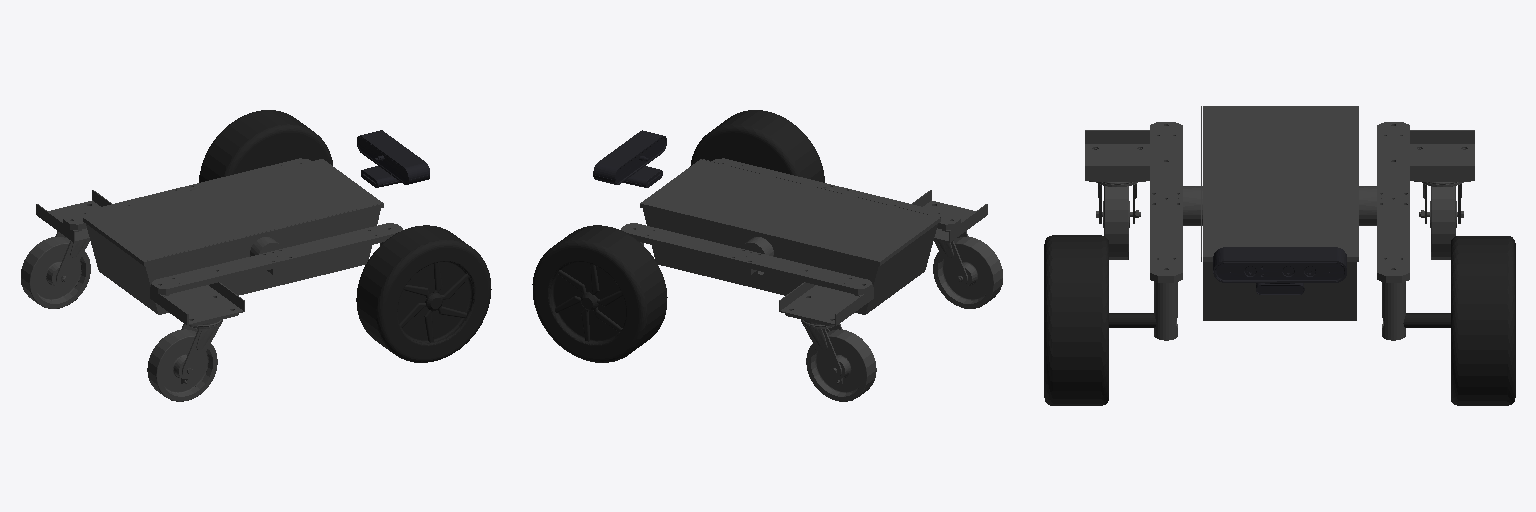
URDF robot description (base_rover_cart):
<?xml version="1.0" encoding="utf-8"?>
<!-- =================================================================================== -->
<!-- |    This document was autogenerated by xacro from test.urdf.xacro                | -->
<!-- |    EDITING THIS FILE BY HAND IS NOT RECOMMENDED                                 | -->
<!-- =================================================================================== -->
<robot name="base_rover_cart">
  <!--URDF uses SI Units: meters, radians and kilograms-->
  <!-- Init colour -->
  <material name="black">
    <color rgba="0.0 0.0 0.0 1.0"/>
  </material>
  <material name="dark">
    <color rgba="0.3 0.3 0.3 1.0"/>
  </material>
  <material name="light_black">
    <color rgba="0.4 0.4 0.4 1.0"/>
  </material>
  <material name="blue">
    <color rgba="0.0 0.0 0.8 1.0"/>
  </material>
  <material name="green">
    <color rgba="0.0 0.8 0.0 1.0"/>
  </material>
  <material name="grey">
    <color rgba="0.5 0.5 0.5 1.0"/>
  </material>
  <material name="orange">
    <color rgba="1.0 0.423529411765 0.0392156862745 1.0"/>
  </material>
  <material name="brown">
    <color rgba="0.870588235294 0.811764705882 0.764705882353 1.0"/>
  </material>
  <material name="silver">
    <color rgba="0.752941176471 0.752941176471 0.752941176471 1.0"/>
  </material>
  <material name="red">
    <color rgba="0.8 0.0 0.0 1.0"/>
  </material>
  <material name="white">
    <color rgba="1.0 1.0 1.0 1.0"/>
  </material>
  <joint name="astra_joint" type="fixed">
    <origin rpy="0 0 0" xyz="0.09 0 0.11"/>
    <parent link="base_link"/>
    <child link="camera_link"/>
  </joint>
  <link name="camera_link">
    <visual>
      <origin rpy="1.57079632679 0 1.57079632679" xyz="0 0 0"/>
      <geometry>
        <mesh filename="package://rover_description/meshes/astra.dae" scale="0.001 0.001 0.001"/>
      </geometry>
    </visual>
    <!-- might be a bit small... -->
    <inertial>
      <mass value="1e-5"/>
      <origin rpy="0 0 0" xyz="0 0 0"/>
      <inertia ixx="0" ixy="0" ixz="0" iyy="0" iyz="0" izz="0"/>
    </inertial>
    <collision>
      <origin rpy="0 0 0" xyz="0 0 0"/>
      <geometry>
        0
        
        <box size="0.08 0.18 0.06"/>
      </geometry>
    </collision>
  </link>
  <joint name="camera_optical_joint" type="fixed">
    <origin rpy="-1.57079632679 0 -1.57079632679" xyz="0 0 0"/>
    <parent link="camera_link"/>
    <child link="camera_rgb_frame"/>
  </joint>
  <link name="camera_rgb_frame">
  </link>
  <joint name="camera_depth_joint" type="fixed">
    <origin rpy="-1.57079632679 0 -1.57079632679" xyz="0 0 0"/>
    <parent link="camera_link"/>
    <child link="camera_depth_frame"/>
  </joint>
  <link name="camera_depth_frame">
  </link>
  <gazebo reference="camera_link">
    <sensor name="openni_camera_camera" type="depth">
      <always_on>1</always_on>
      <visualize>true</visualize>
      <camera>
        <horizontal_fov>1.047</horizontal_fov>
        <image>
          <width>640</width>
          <height>480</height>
          <format>R8G8B8</format>
        </image>
        <depth_camera>

        </depth_camera>
        <clip>
          <near>0.1</near>
          <far>100</far>
        </clip>
      </camera>
      <plugin filename="libgazebo_ros_openni_kinect.so" name="kinect_controller">
        <alwaysOn>true</alwaysOn>
        <updateRate>10.0</updateRate>
        <cameraName>camera</cameraName>
        <frameName>camera_depth_frame</frameName>
        <imageTopicName>rgb/image_raw</imageTopicName>
        <depthImageTopicName>depth/image_raw</depthImageTopicName>
        <pointCloudTopicName>depth/points</pointCloudTopicName>
        <cameraInfoTopicName>rgb/camera_info</cameraInfoTopicName>
        <depthImageCameraInfoTopicName>depth/camera_info</depthImageCameraInfoTopicName>
        <pointCloudCutoff>0.4</pointCloudCutoff>
        <hackBaseline>0.07</hackBaseline>
        <distortionK1>0.0</distortionK1>
        <distortionK2>0.0</distortionK2>
        <distortionK3>0.0</distortionK3>
        <distortionT1>0.0</distortionT1>
        <distortionT2>0.0</distortionT2>
        <CxPrime>0.0</CxPrime>
        <Cx>0.0</Cx>
        <Cy>0.0</Cy>
        <focalLength>0.0</focalLength>
      </plugin>
    </sensor>
    <!-- <material>Gazebo/Grey</material> -->
  </gazebo>
  <link name="imu_link"/>
  <joint name="imu_joint" type="fixed">
    <parent link="base_link"/>
    <child link="imu_link"/>
    <origin rpy="0 0 0" xyz="0.0 0 0.068"/>
  </joint>
  <!-- Gazebo sensor plugin -->
  <gazebo>
    <plugin filename="libgazebo_ros_imu.so" name="imu_plugin">
      <always_on> true </always_on>
      <bodyName> imu_link </bodyName>
      <frameName> imu_link </frameName>
      <topicName> imu </topicName>
      <serviceName> imu_service </serviceName>
      <gaussianNoise> 0.0 </gaussianNoise>
      <updateRate> 200 </updateRate>
      <imu>
        <noise>
          <type> gaussian </type>
          <rate>
            <mean> 0.0 </mean>
            <stddev> 2e-4 </stddev>
            <bias_mean> 0.0000075 </bias_mean>
            <bias_stddev> 0.0000008 </bias_stddev>
          </rate>
          <accel>
            <mean> 0.0 </mean>
            <stddev> 1.7e-2 </stddev>
            <bias_mean> 0.1 </bias_mean>
            <bias_stddev> 0.001 </bias_stddev>
          </accel>
        </noise>
      </imu>
    </plugin>
  </gazebo>
  <joint name="rplidar_joint" type="fixed">
    <origin rpy="0 0 3.14" xyz="-0.11 0 0.25"/>
    <parent link="base_link"/>
    <child link="laser"/>
  </joint>
  <link name="laser">
    <visual>
      <origin rpy="0 0 0" xyz="0 0 -0.15"/>
      <geometry>
        <mesh filename="package://rover_description/meshes/lidar.dae" scale="0.001 0.001 0.001"/>
      </geometry>
    </visual>
    <collision>
      <origin rpy="0 0 0" xyz="0 0 -0.1"/>
      <geometry>
        <box size="0.08 0.08 0.08"/>
      </geometry>
    </collision>
    <inertial>
      <mass value="1e-5"/>
      <origin rpy="1.5707 0 4.71" xyz="0 0 0.058"/>
      <inertia ixx="0" ixy="0" ixz="0" iyy="0" iyz="0" izz="0"/>
    </inertial>
  </link>
  <!-- If you cant't use your GPU comment RpLidar using GPU and uncomment RpLidar using CPU 
    gazebo plugin. -->
  <!-- Noise parameters based on published spec for rplidar laser
    achieving "+-30mm" accuracy at range < 10m.  A mean of 0.0m and
    stddev of 0.01m will put 99.7% of samples within 0.03m of the true
    reading. -->
  <!-- RpLidar using GPU -->
  <!--  <gazebo reference="laser">
    <sensor type="gpu_ray" name="head_rplidar_sensor">
      <pose>0 0 0.08 0 0 0</pose>
      <visualize>false</visualize>
      <update_rate>40</update_rate>
      <ray>
        <scan>
          <horizontal>
            <samples>720</samples>
            <resolution>1</resolution>
            <min_angle>-3.14159265</min_angle>
            <max_angle>3.14159265</max_angle>
          </horizontal>
        </scan>
        <range>
          <min>0.2</min>
          <max>30.0</max>
          <resolution>0.01</resolution>
        </range>
        <noise>
          <type>gaussian</type>
          <mean>0.0</mean>
          <stddev>0.01</stddev>
        </noise>
      </ray>
      <plugin name="gazebo_ros_head_rplidar_controller" filename="libgazebo_ros_gpu_laser.so">
        <topicName>scan</topicName>
        <frameName>laser</frameName>
      </plugin>
    </sensor>
    <material>Gazebo/Grey</material>
  </gazebo>
-->
  <!-- RpLidar using CPU -->
  <gazebo reference="laser">
    <sensor name="head_rplidar_sensor" type="ray">
      <pose>0 0 0.06 0 0 0</pose>
      <visualize>false</visualize>
      <update_rate>40</update_rate>
      <ray>
        <scan>
          <horizontal>
            <samples>720</samples>
            <resolution>1</resolution>
            <min_angle>-3.14159265</min_angle>
            <max_angle>3.14159265</max_angle>
          </horizontal>
        </scan>
        <range>
          <min>0.2</min>
          <max>30.0</max>
          <resolution>0.01</resolution>
        </range>
        <noise>
          <type>gaussian</type>
          <mean>0.0</mean>
          <stddev>0.01</stddev>
        </noise>
      </ray>
      <plugin filename="libgazebo_ros_laser.so" name="gazebo_ros_head_rplidar_controller">
        <topicName>scan</topicName>
        <frameName>laser</frameName>
      </plugin>
    </sensor>
    <!-- <material>Gazebo/Grey</material> -->
  </gazebo>
  <!--xacro:include filename="$(find rover_description)/urdf/logo.urdf.xacro"/-->
  <!-- <xacro:include filename="$(find rover_description)/urdf/ar_tag.urdf.xacro"/> -->
  <!-- Base
	<link name="base_footprint"/>

	<joint name="base_joint" type="fixed">
		<origin xyz="0 0 0.105" rpy="0 0 0"/>
                <parent link="base_footprint"/>
	        <child link="base_link"/>
	</joint> -->
  <link name="base_link">
    <visual>
      <origin rpy="0 0 0" xyz="0 0 0"/>
      <geometry>
        <mesh filename="package://rover_description/meshes/rover_cart.dae" scale="0.001 0.001 0.001"/>
      </geometry>
      <material name="dark"/>
    </visual>
    <collision>
      <origin rpy="0 0 0" xyz="-0.225 0 0.05"/>
      <geometry>
        <box size="0.50 0.35 0.10"/>
      </geometry>
    </collision>
    <inertial>
      <origin rpy="0 0 0" xyz="-0.225 0 0"/>
      <mass value="20"/>
      <!-- in kg -->
      <!-- M=20kg, x=0.5m, y=0.34m, z=0.1m-->
      <inertia ixx="0.2093333" ixy="0.0" ixz="0.0" iyy="0.4333333" iyz="0.0" izz="0.6093333"/>
    </inertial>
  </link>
  <joint name="wheel_left_joint" type="continuous">
    <parent link="base_link"/>
    <child link="wheel_left_link"/>
    <dynamics damping="0.0005" friction="0.00"/>
    <!-- can be set to the right values -->
    <!--limit upper="0.001"/-->
    <!-- set to correct values -->
    <axis xyz="0 1 0"/>
    <origin xyz="0 0.25 0"/>
  </joint>
  <link name="wheel_left_link">
    <visual>
      <origin rpy="0 0 3.14159265359" xyz="0 0 0"/>
      <geometry>
        <mesh filename="package://rover_description/meshes/wheel_rover.dae" scale="0.001 0.001 0.001"/>
      </geometry>
    </visual>
    <inertial>
      <origin xyz="0 0 0"/>
      <mass value="0.5"/>
      <inertia ixx="0.000986875" ixy="0.0" ixz="0.0" iyy="0.000145375" iyz="0.0" izz="0.000986875"/>
    </inertial>
    <collision>
      <origin rpy="1.57079632679 0 0" xyz="0 0 0"/>
      <geometry>
        <cylinder length="0.08" radius="0.105"/>
      </geometry>
    </collision>
  </link>
  <gazebo reference="wheel_left_link">
    <kp value="50000000.0"/>
    <kd value="0.2"/>
    <minDepth>0.001</minDepth>
    <maxVel>0.01</maxVel>
    <mu1 value="50.0"/>
    <mu2 value="50.0"/>
    <fdir1>1 0 0</fdir1>
    <!--			<material>Gazebo/Grey</material> -->
  </gazebo>
  <joint name="wheel_right_joint" type="continuous">
    <parent link="base_link"/>
    <child link="wheel_right_link"/>
    <dynamics damping="0.0005" friction="0.00"/>
    <!-- can be set to the right values -->
    <!--limit upper="0.001"/-->
    <!-- set to correct values -->
    <axis xyz="0 1 0"/>
    <origin xyz="0 -0.25 0"/>
  </joint>
  <link name="wheel_right_link">
    <visual>
      <origin rpy="0 0 0" xyz="0 0 0"/>
      <geometry>
        <mesh filename="package://rover_description/meshes/wheel_rover.dae" scale="0.001 0.001 0.001"/>
      </geometry>
    </visual>
    <inertial>
      <origin xyz="0 0 0"/>
      <mass value="0.5"/>
      <inertia ixx="0.000986875" ixy="0.0" ixz="0.0" iyy="0.000145375" iyz="0.0" izz="0.000986875"/>
    </inertial>
    <collision>
      <origin rpy="1.57079632679 0 0" xyz="0 0 0"/>
      <geometry>
        <cylinder length="0.08" radius="0.105"/>
      </geometry>
    </collision>
  </link>
  <gazebo reference="wheel_right_link">
    <kp value="50000000.0"/>
    <kd value="0.2"/>
    <minDepth>0.001</minDepth>
    <maxVel>0.01</maxVel>
    <mu1 value="50.0"/>
    <mu2 value="50.0"/>
    <fdir1>1 0 0</fdir1>
    <!--			<material>Gazebo/Grey</material> -->
  </gazebo>
  <joint name="caster_left_joint" type="fixed">
    <parent link="base_link"/>
    <child link="caster_left_link"/>
    <axis xyz="0 1 0"/>
    <dynamics damping="0.0005" friction="0.00"/>
    <origin xyz="-0.4 -0.22 -0.03"/>
  </joint>
  <link name="caster_left_link">
    <!--			<visual>
				<origin xyz="0 0 0" rpy="${pi/2} 0 0"/>
				<geometry>
					<cylinder length="0.01" radius="0.057"/>
				</geometry>
			</visual>
-->
    <inertial>
      <origin xyz="0 0 0"/>
      <mass value="0.001"/>
      <!-- M=3kg, h=0.08m, r=0.105m-->
      <inertia ixx="0.000001" ixy="0.0" ixz="0.0" iyy="0.000001" iyz="0.0" izz="0.000001"/>
    </inertial>
    <collision>
      <origin rpy="0 0 0" xyz="0 0 0"/>
      <geometry>
        <sphere radius="0.075"/>
      </geometry>
    </collision>
  </link>
  <gazebo reference="caster_left_link">
    <kp value="50000000.0"/>
    <kd value="0.2"/>
    <mu1 value="0.00"/>
    <mu2 value="0.00"/>
    <minDepth>0.001</minDepth>
    <maxVel>0.01</maxVel>
    <fdir1>1 0 0</fdir1>
    <material>Gazebo/Orange</material>
  </gazebo>
  <joint name="caster_right_joint" type="fixed">
    <parent link="base_link"/>
    <child link="caster_right_link"/>
    <axis xyz="0 1 0"/>
    <dynamics damping="0.0005" friction="0.00"/>
    <origin xyz="-0.4 0.22 -0.03"/>
  </joint>
  <link name="caster_right_link">
    <!--			<visual>
				<origin xyz="0 0 0" rpy="${pi/2} 0 0"/>
				<geometry>
					<cylinder length="0.01" radius="0.057"/>
				</geometry>
			</visual>
-->
    <inertial>
      <origin xyz="0 0 0"/>
      <mass value="0.001"/>
      <!-- M=3kg, h=0.08m, r=0.105m-->
      <inertia ixx="0.000001" ixy="0.0" ixz="0.0" iyy="0.000001" iyz="0.0" izz="0.000001"/>
    </inertial>
    <collision>
      <origin rpy="0 0 0" xyz="0 0 0"/>
      <geometry>
        <sphere radius="0.075"/>
      </geometry>
    </collision>
  </link>
  <gazebo reference="caster_right_link">
    <kp value="50000000.0"/>
    <kd value="0.2"/>
    <mu1 value="0.00"/>
    <mu2 value="0.00"/>
    <minDepth>0.001</minDepth>
    <maxVel>0.01</maxVel>
    <fdir1>1 0 0</fdir1>
    <material>Gazebo/Orange</material>
  </gazebo>
  <!-- logo macro -->
  <!--xacro:logo_tag x_="-0.28" y_="0.0" z_="0.0975" r_="0" p_="0" yaw_="0">
	</xacro:logo_tag-->
  <!-- ar_tag macros -->
  <!-- <xacro:ar_tag number_="5" x_="0.0" y_="0.0" z_="0.15" r_="0.0">
	</xacro:ar_tag> -->
  <gazebo>
    <plugin filename="libgazebo_ros_diff_drive.so" name="base_rover_controller">
      <commandTopic> cmd_vel </commandTopic>
      <odometryTopic> odom </odometryTopic>
      <odometryFrame> odom </odometryFrame>
      <odometrySource> world </odometrySource>
      <publishOdomTF> true </publishOdomTF>
      <robotBaseFrame> base_link </robotBaseFrame>
      <publishWheelTF> false </publishWheelTF>
      <publishTf> true </publishTf>
      <publishWheelJointState> true </publishWheelJointState>
      <legacyMode> false </legacyMode>
      <updateRate> 100 </updateRate>
      <leftJoint> wheel_left_joint </leftJoint>
      <rightJoint> wheel_right_joint </rightJoint>
      <wheelSeparation> 0.50 </wheelSeparation>
      <wheelDiameter> 0.21 </wheelDiameter>
      <wheelAcceleration> 1 </wheelAcceleration>
      <wheelTorque> 10 </wheelTorque>
      <rosDebugLevel> na </rosDebugLevel>
    </plugin>
  </gazebo>
</robot>

--- Facts derived from the render (not from the file) ---
3 views of the same robot in one strip: view 1: azimuth 30°, elevation 25°; view 2: azimuth 150°, elevation 25°; view 3: azimuth 270°, elevation 25° (orthographic).
Model base_rover_cart with 10 links and 9 joints (2 continuous, 7 fixed), rooted at base_link, posed every joint at zero.
Visible links, largest first — view 1: base_link, wheel_right_link, wheel_left_link, camera_link; view 2: base_link, wheel_left_link, wheel_right_link, camera_link; view 3: base_link, wheel_right_link, wheel_left_link, camera_link.
Link boxes in pixels (left/top/right/bottom): base_link: left=21, top=158, right=402, bottom=401; wheel_right_link: left=356, top=225, right=491, bottom=362; wheel_left_link: left=199, top=110, right=332, bottom=182; camera_link: left=357, top=130, right=429, bottom=187; base_link: left=621, top=158, right=1002, bottom=401; wheel_left_link: left=532, top=225, right=667, bottom=362; wheel_right_link: left=690, top=110, right=824, bottom=182; camera_link: left=593, top=130, right=666, bottom=187; base_link: left=1085, top=106, right=1474, bottom=340; wheel_right_link: left=1044, top=235, right=1156, bottom=405; wheel_left_link: left=1403, top=236, right=1515, bottom=405; camera_link: left=1213, top=247, right=1346, bottom=294.
Bounding box of the posed robot: 0.5795 × 0.58 × 0.2369 m (x, y, z).
4 mesh visuals loaded from 4 distinct referenced files (3 Collada DAE); not drawn: 1 (file found but could not be loaded).
